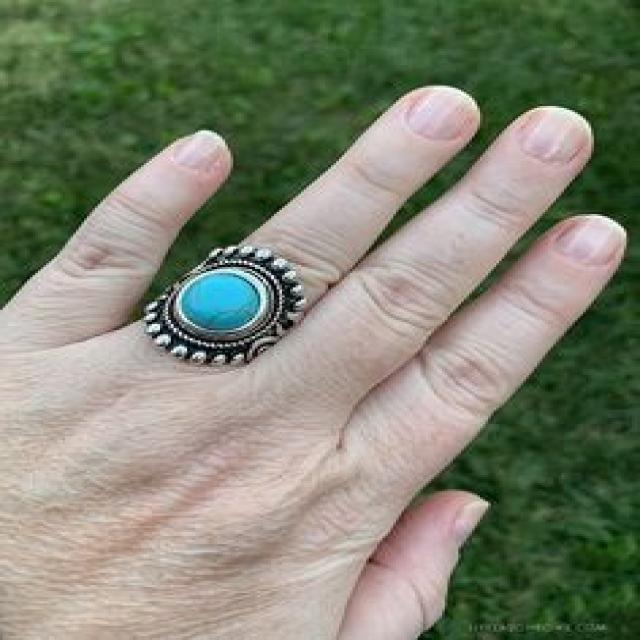Fingernail: (511, 106, 585, 165), (408, 88, 475, 141), (554, 216, 623, 266), (175, 129, 227, 172), (453, 504, 490, 549)
